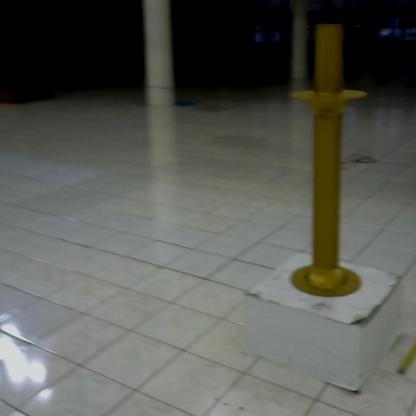pole: (285, 13, 367, 310)
